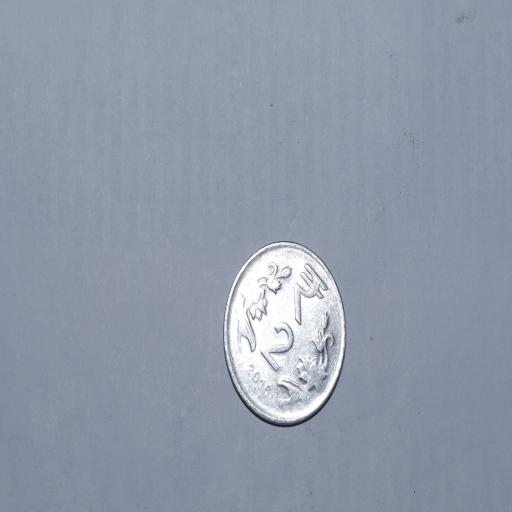rupee2: (222, 238, 350, 426)
